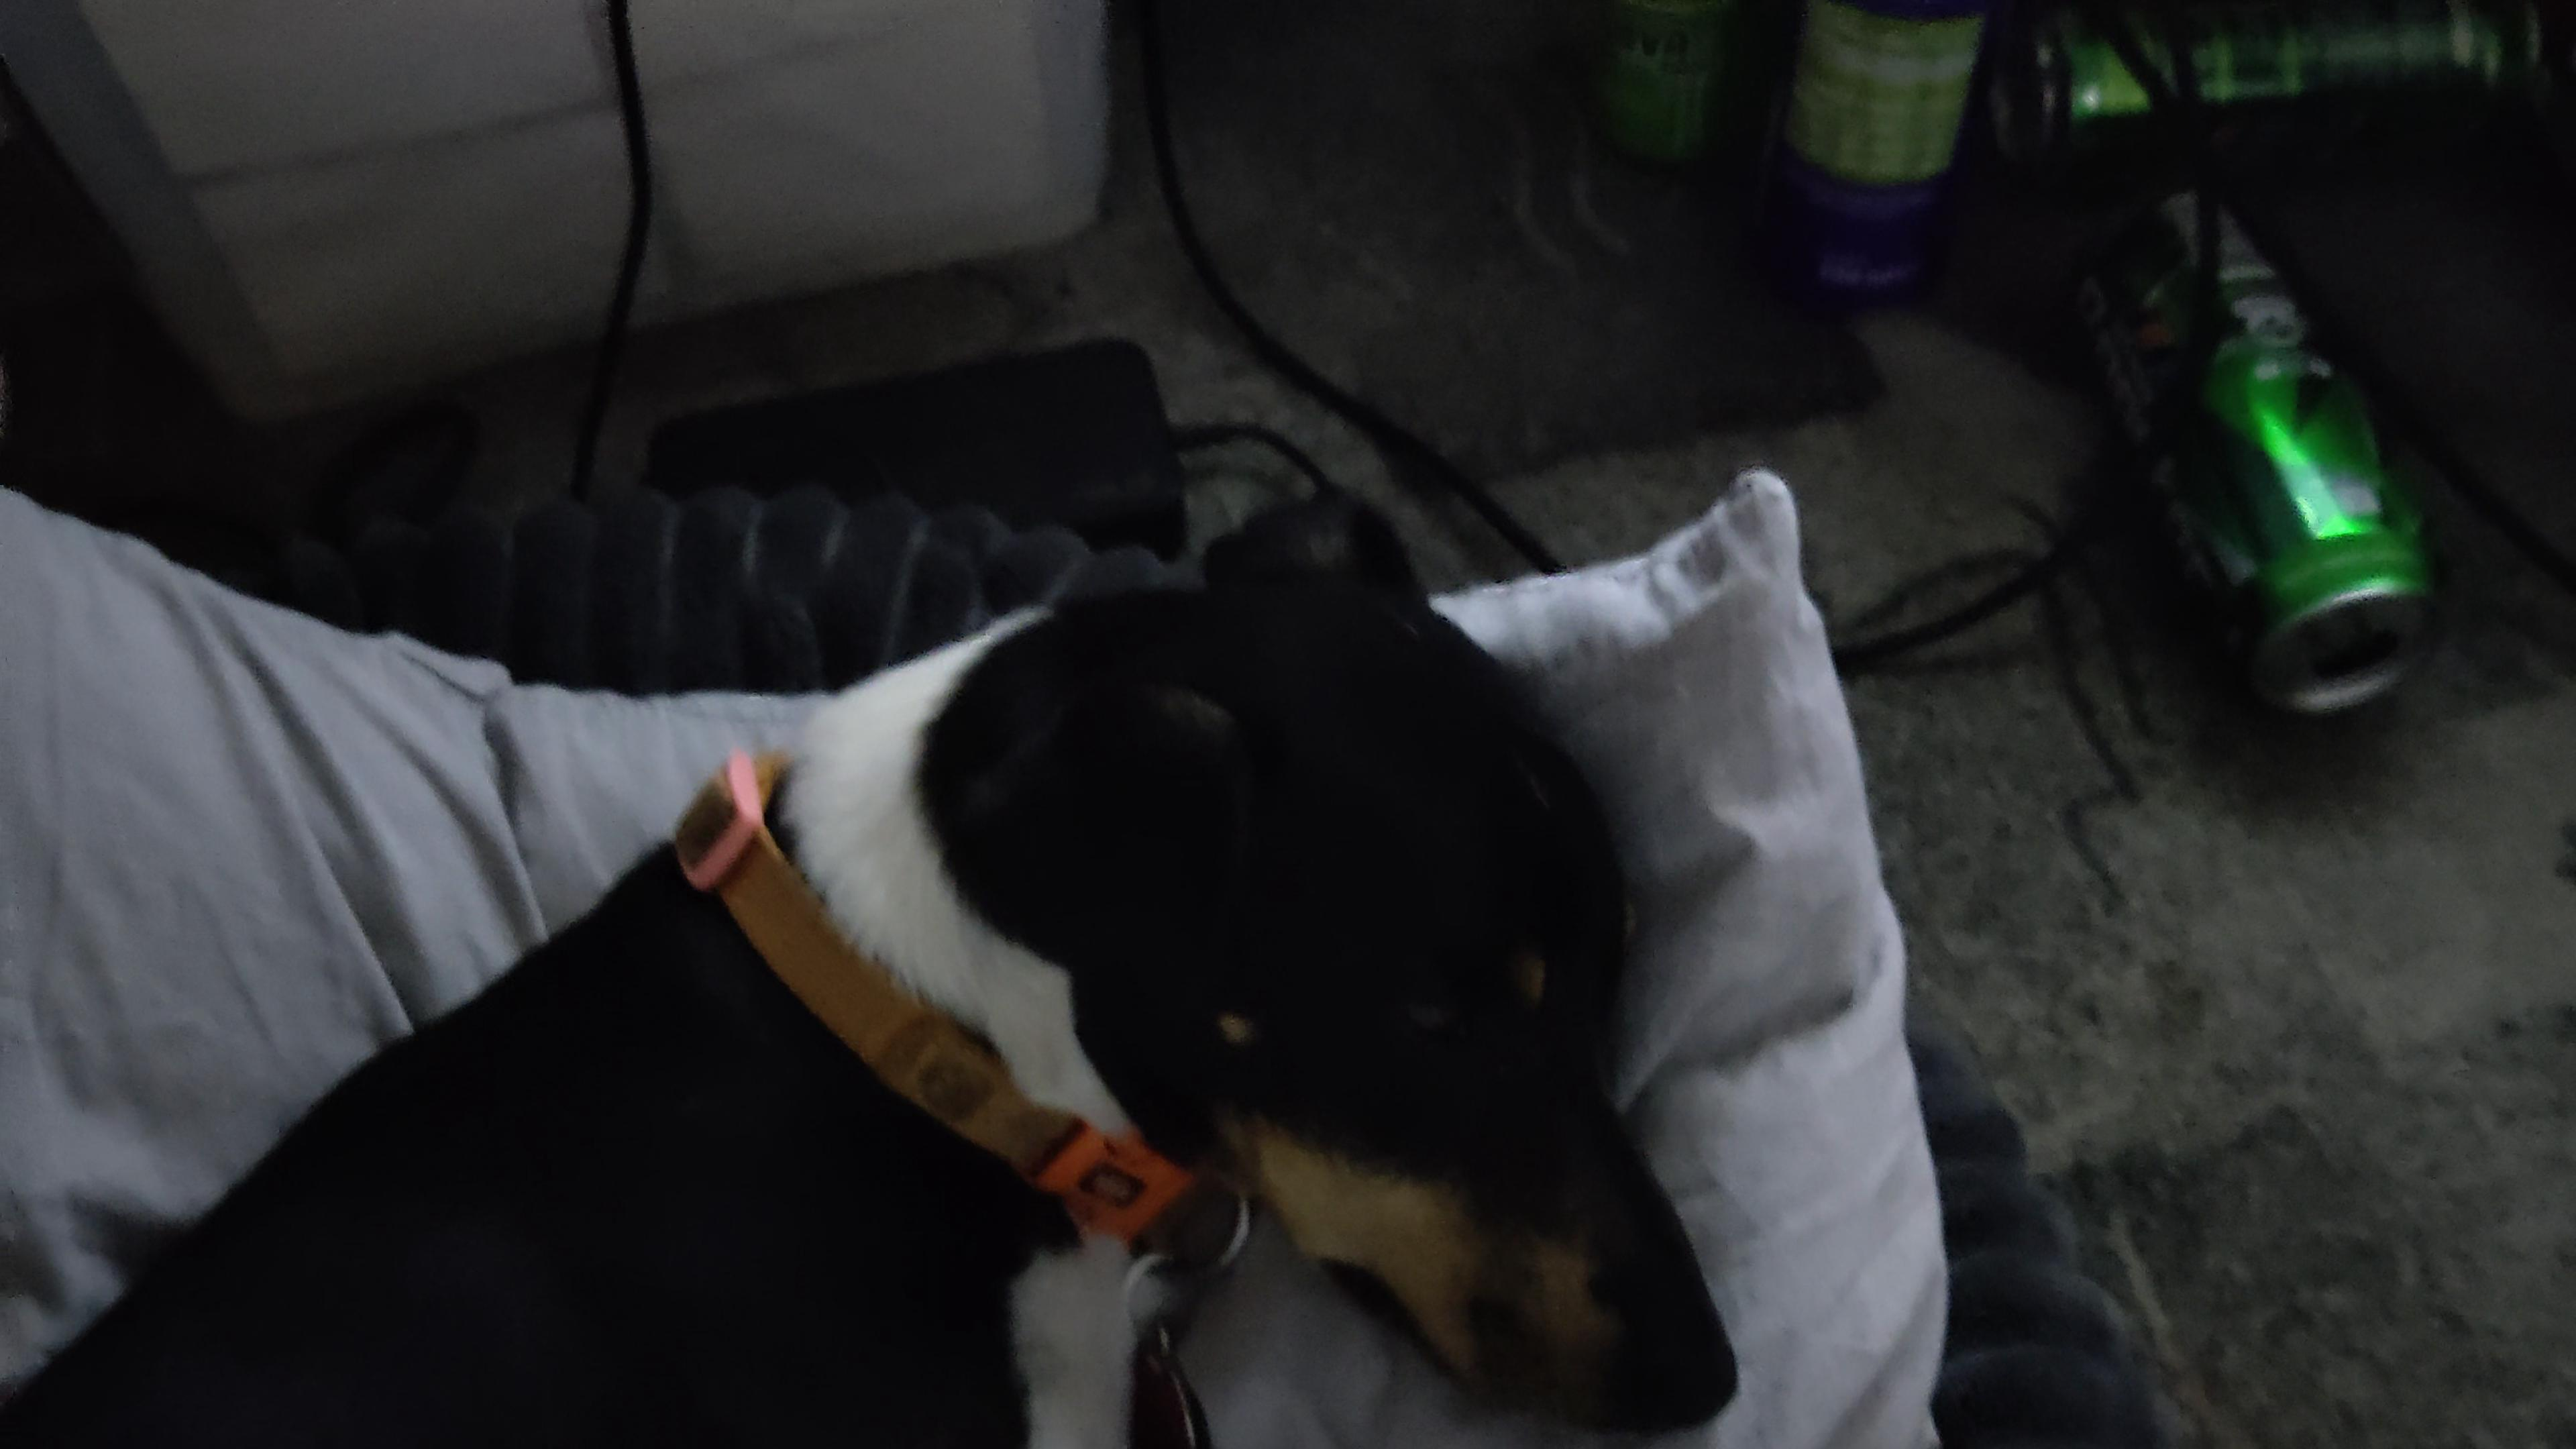Dog: (0, 464, 1773, 1442)
